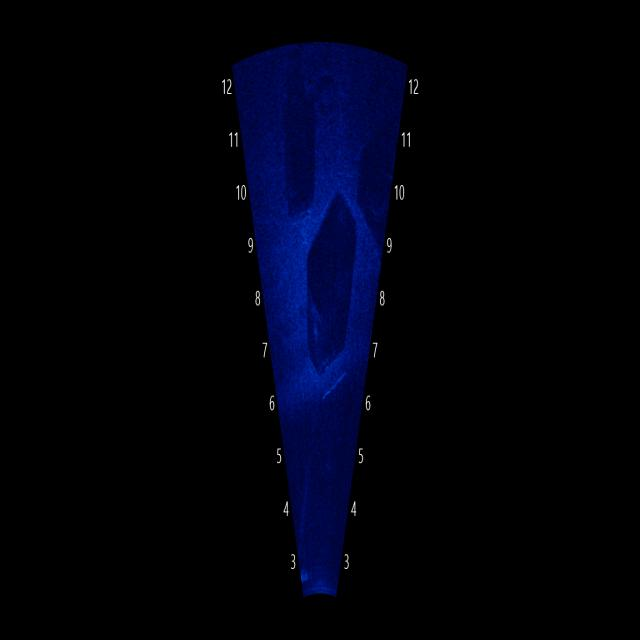square: (302, 174, 360, 407), (275, 54, 321, 237)
